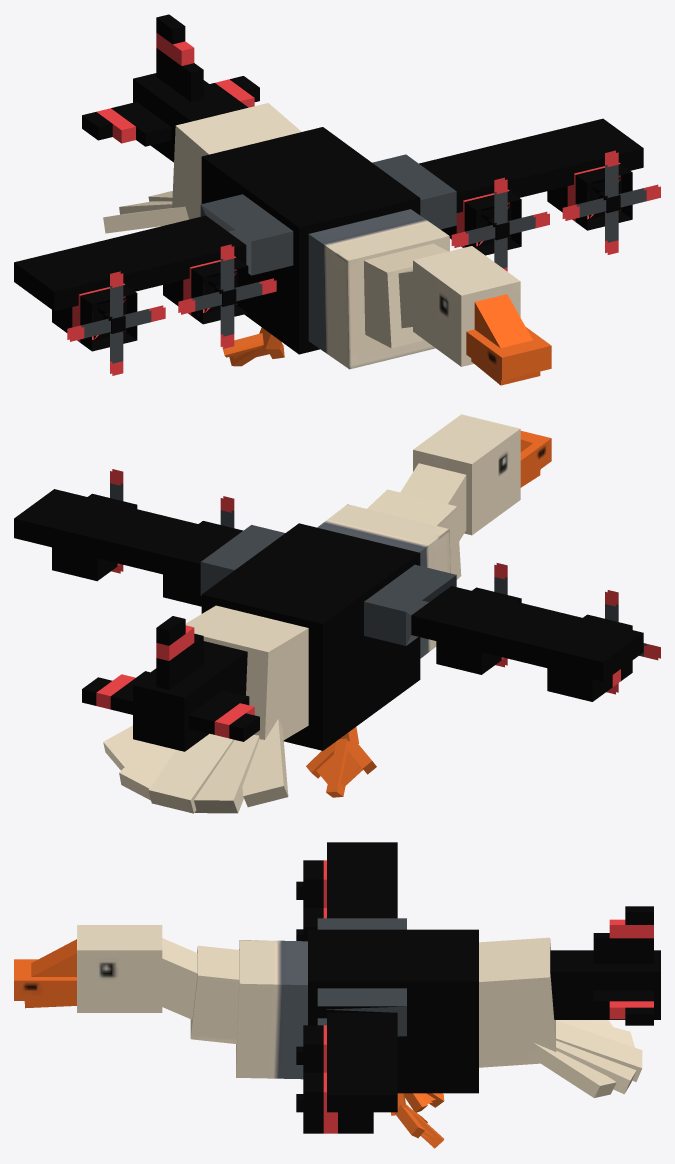
File: bombardini_Gusini.fbx
3 views of the same model, one above another, from view 1: azimuth 30°, elevation 25°; view 2: azimuth 150°, elevation 25°; view 3: azimuth 270°, elevation 25° (orthographic). The views are drawn at different scales.
Parts seen in each view (by area): view 1: Bombombini_Gusini; view 2: Bombombini_Gusini; view 3: Bombombini_Gusini.
Part boxes in pixels (left/top/right/bottom): Bombombini_Gusini: left=14, top=14, right=660, bottom=385; Bombombini_Gusini: left=14, top=414, right=660, bottom=813; Bombombini_Gusini: left=14, top=842, right=660, bottom=1148.
Size of the model in its own units: 959 by 385 by 1034.
Materials: 4 (1 with a texture image).
